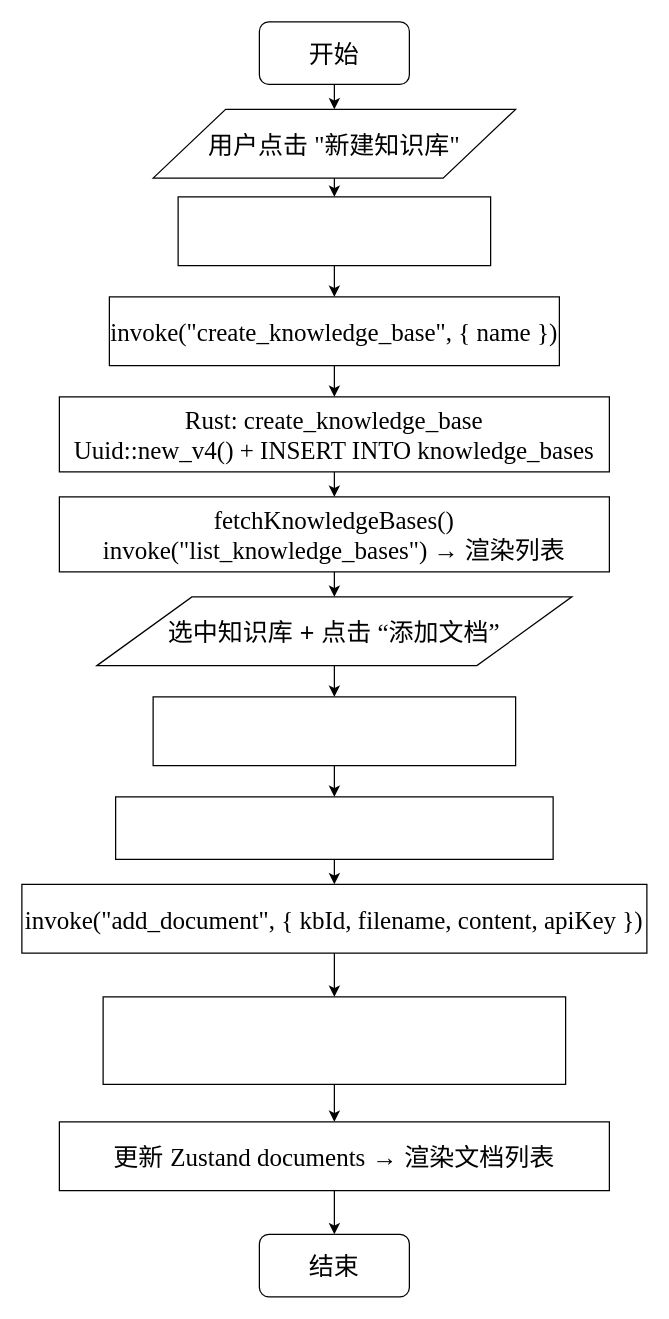
This 669x1319 diagram has some shape labels left out. Here are the shapes that lost their labels. From the top down, the centre of each, then its label:
point 334,231: createKnowledgeBase(name)
point 334,731: open({ multiple, filters: ["md"] })
point 333,827: addDocument(kbId, filename, content)
point 334,1040: Rust: add_document split_content → get_embeddings → SQLite transaction → COMMIT
